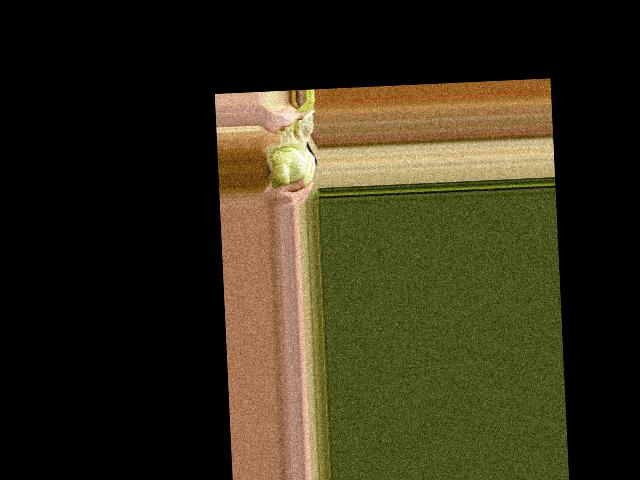lettuce: (262, 130, 318, 193)
